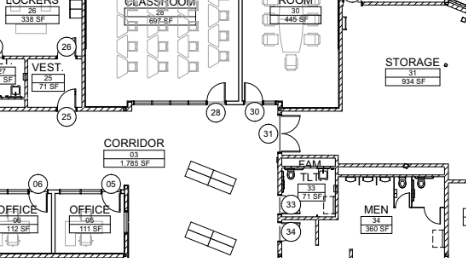door: (99, 190, 123, 215), (26, 191, 50, 215), (206, 80, 228, 104), (243, 82, 265, 104), (56, 87, 77, 110), (423, 205, 442, 226), (395, 190, 412, 210)
double door: (277, 114, 301, 154)
wall: (335, 1, 346, 114), (1, 250, 125, 258), (80, 1, 89, 108), (277, 105, 354, 117), (337, 162, 452, 169), (442, 160, 450, 258), (360, 1, 451, 9), (333, 151, 342, 221), (274, 214, 342, 222), (272, 154, 344, 161), (74, 105, 129, 114), (274, 152, 285, 197), (1, 105, 58, 113), (2, 54, 60, 61), (444, 1, 466, 18), (23, 58, 30, 109), (313, 218, 323, 248), (121, 231, 131, 258), (123, 182, 130, 214), (275, 240, 284, 255)
